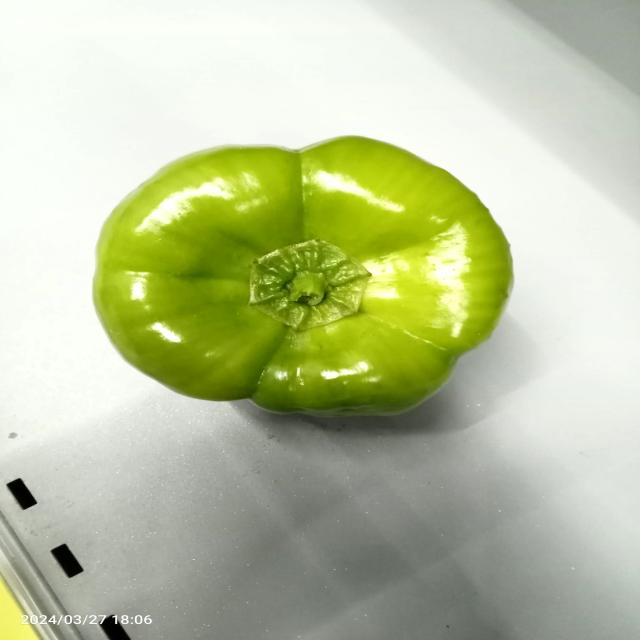bell pepper: (76, 126, 532, 442)
